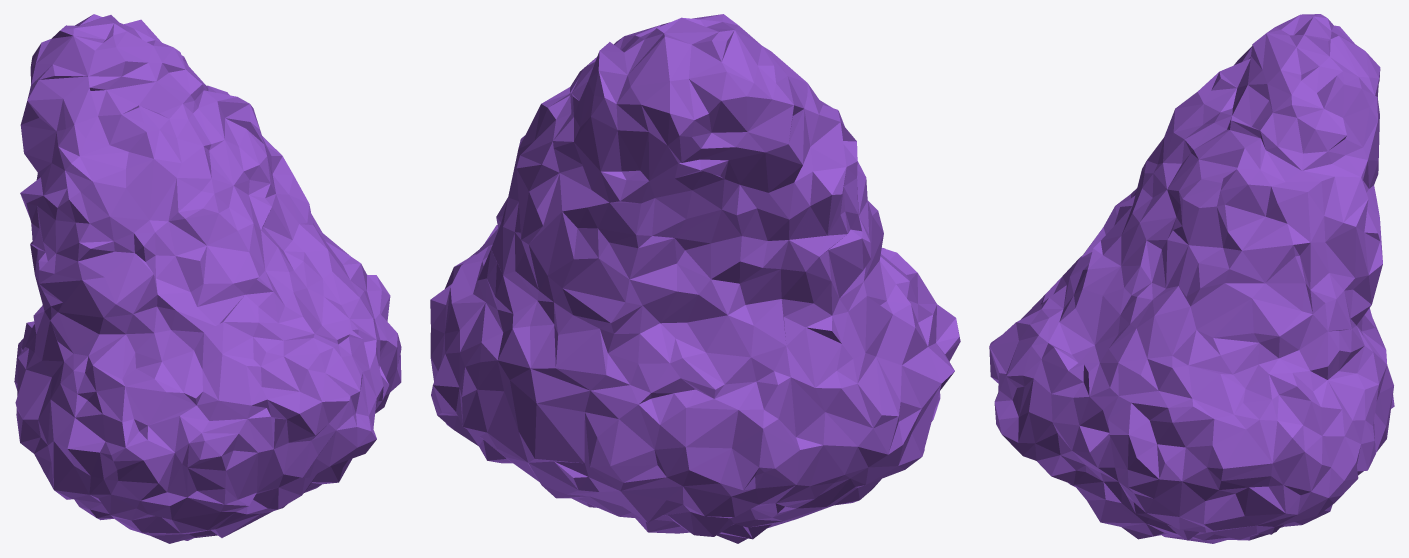
The model's file is little rock_02.fbx.
3 renders of one model, left to right at view 1: azimuth 30°, elevation 25°; view 2: azimuth 150°, elevation 25°; view 3: azimuth 270°, elevation 25°, orthographic. The views are drawn at different scales.
Parts seen in each view (by area): view 1: little rock2; view 2: little rock2; view 3: little rock2.
Boxes of the visible parts, x1,y1,x2,y2 form: little rock2: (14,14,401,543); little rock2: (430,14,960,543); little rock2: (989,14,1394,543).
Bounding box in the file's own units: 370 × 446 × 343.
